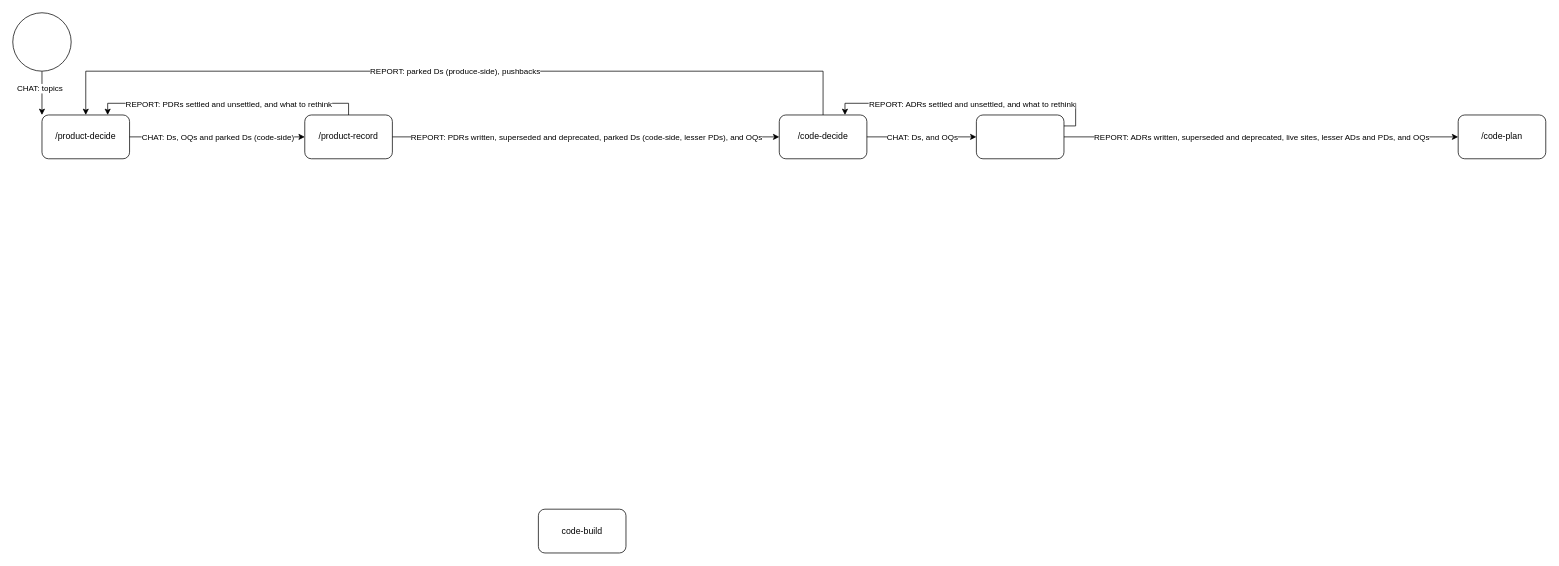
The diagram is 1559 pixels wide and 566 high, and some of its shapes have lost their labels. The centre of each missing label's shape, as x and y in pixels:
/code-record: the point at 1020,136
product owner: the point at 41,41
